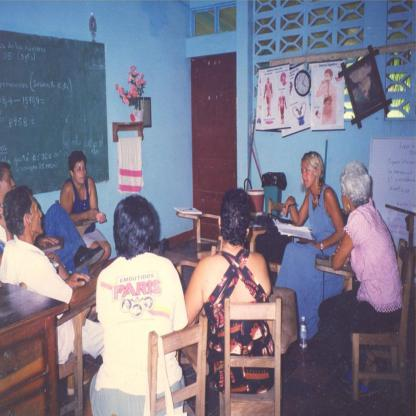face: (31, 202, 45, 235), (302, 166, 317, 190), (3, 173, 17, 196), (74, 164, 88, 184), (359, 74, 371, 96), (342, 186, 350, 213), (326, 74, 331, 83)
